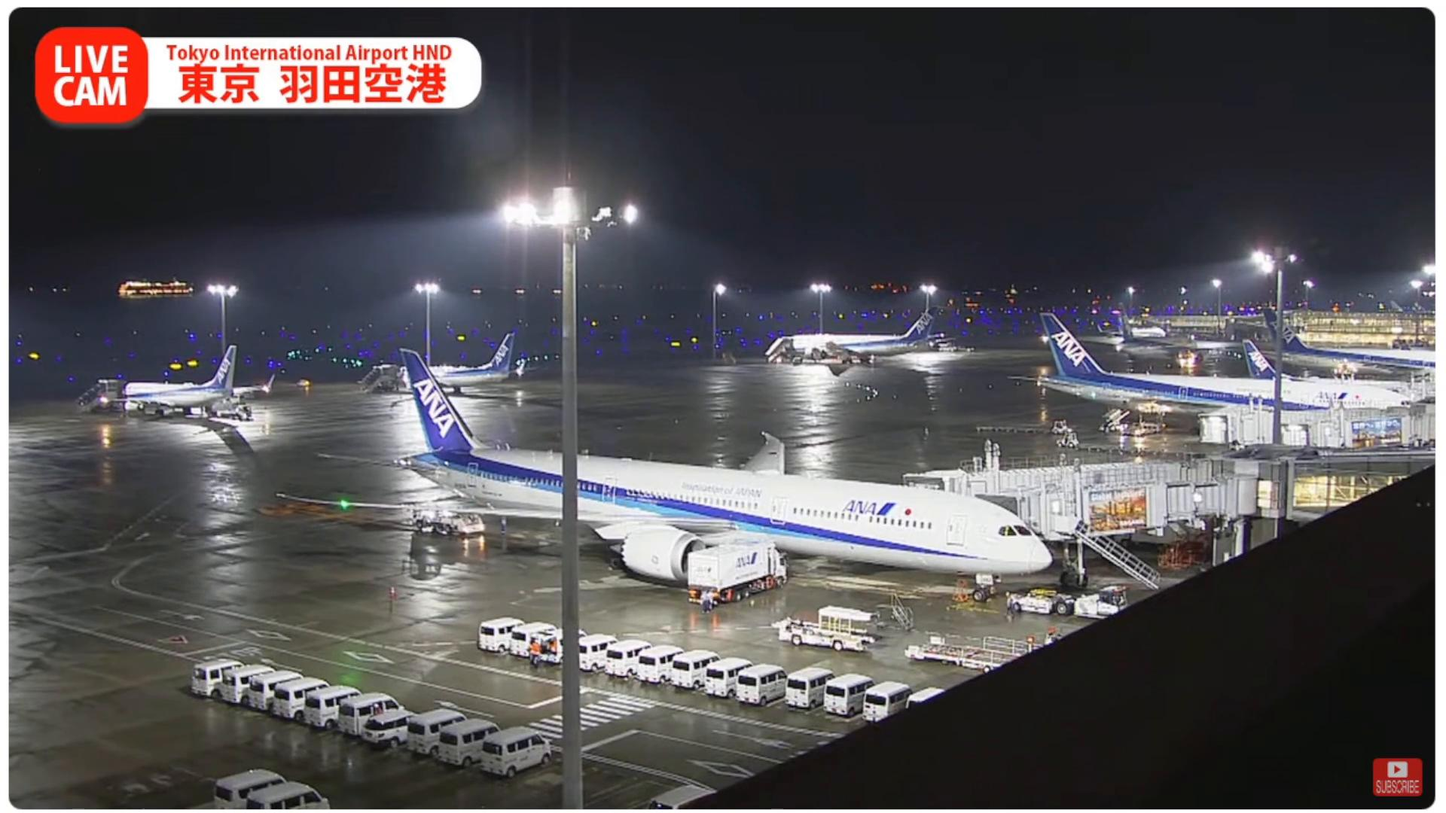Aerobridge: (904, 454, 1290, 516), (978, 469, 1279, 540)
Airplane: (263, 347, 1060, 592)
Catering: (689, 532, 794, 613)
JCPL: (904, 639, 1017, 673), (937, 630, 1051, 655)
Skyloader: (768, 597, 895, 663)
Tow Tug: (1000, 579, 1141, 626)
Window: (1291, 459, 1429, 518)
